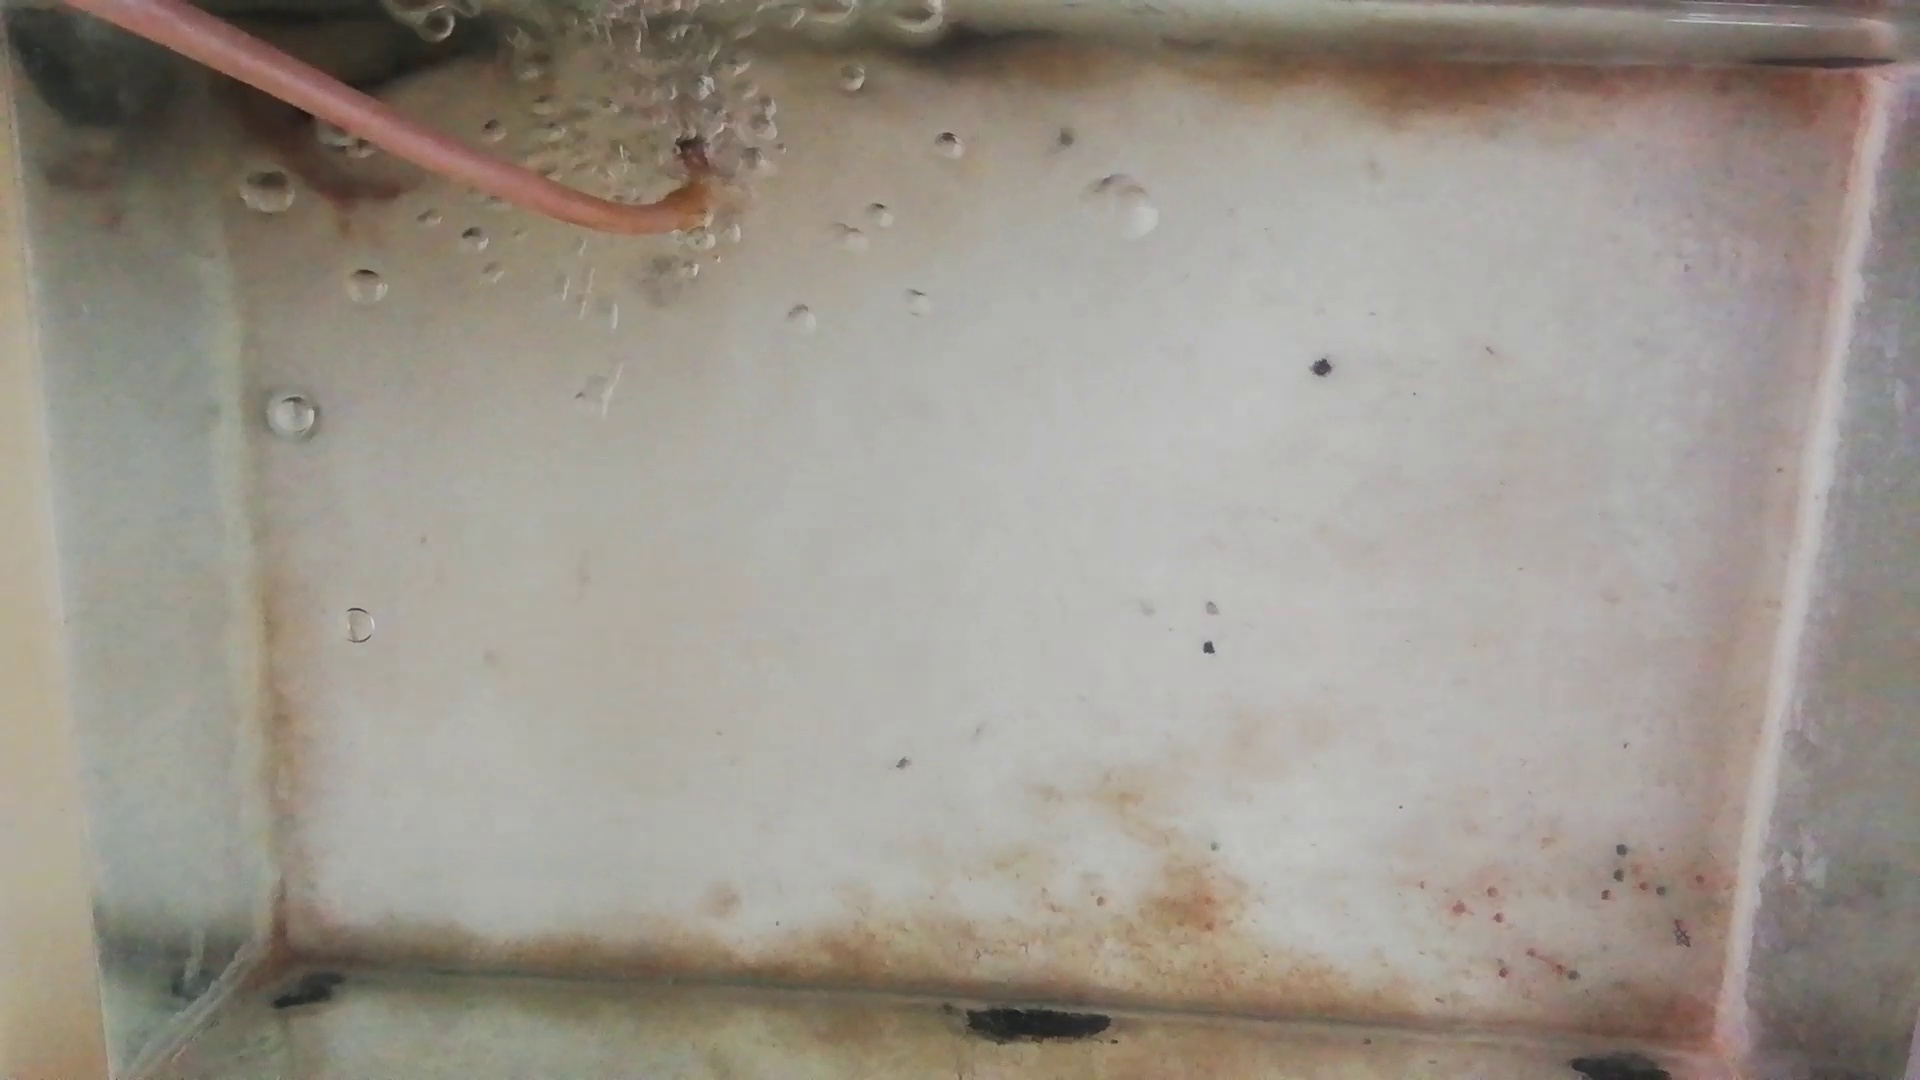fish: (231, 80, 396, 204), (319, 26, 487, 88)
